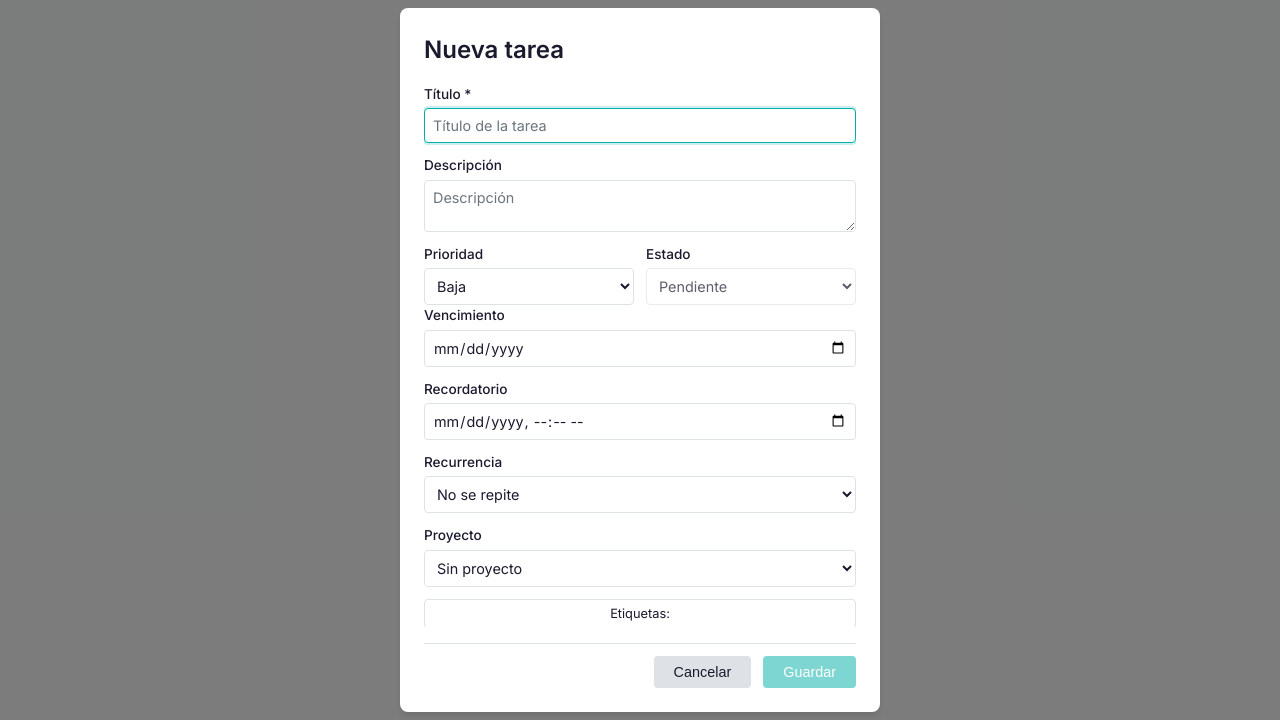
Test: AddTaskModal › disables Save until the title is present
Expected: the button "Guardar" is disabled, [763, 656, 856, 688]
In the field with placeholder "Título de la tarea": (640, 126) [424, 108, 856, 143], type "Task"
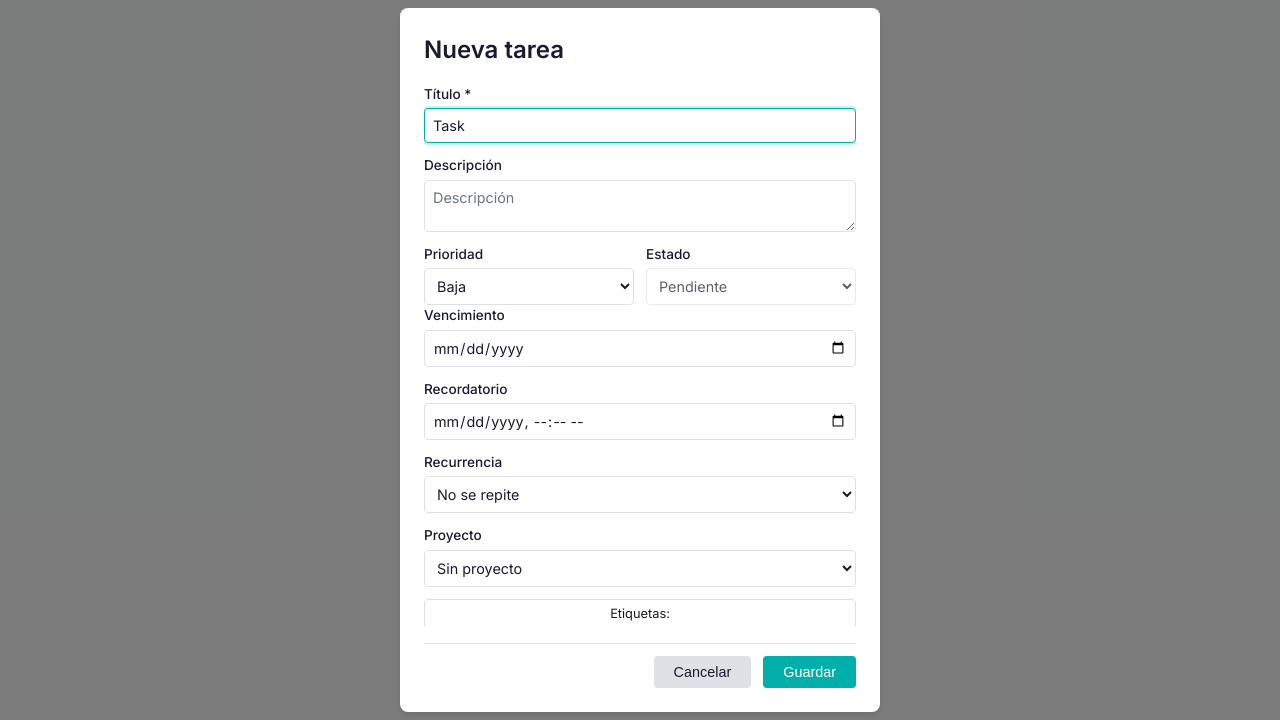
Now the button "Guardar" is enabled, box [763, 656, 856, 688]
